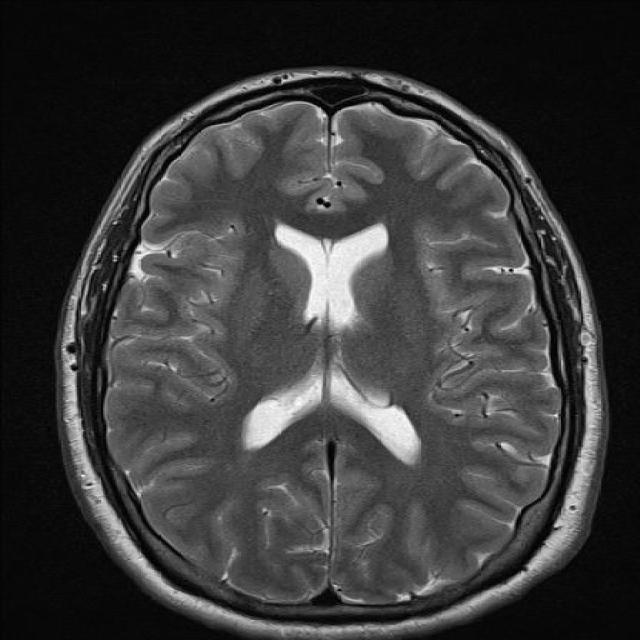No_Tumor: (58, 70, 607, 639)
